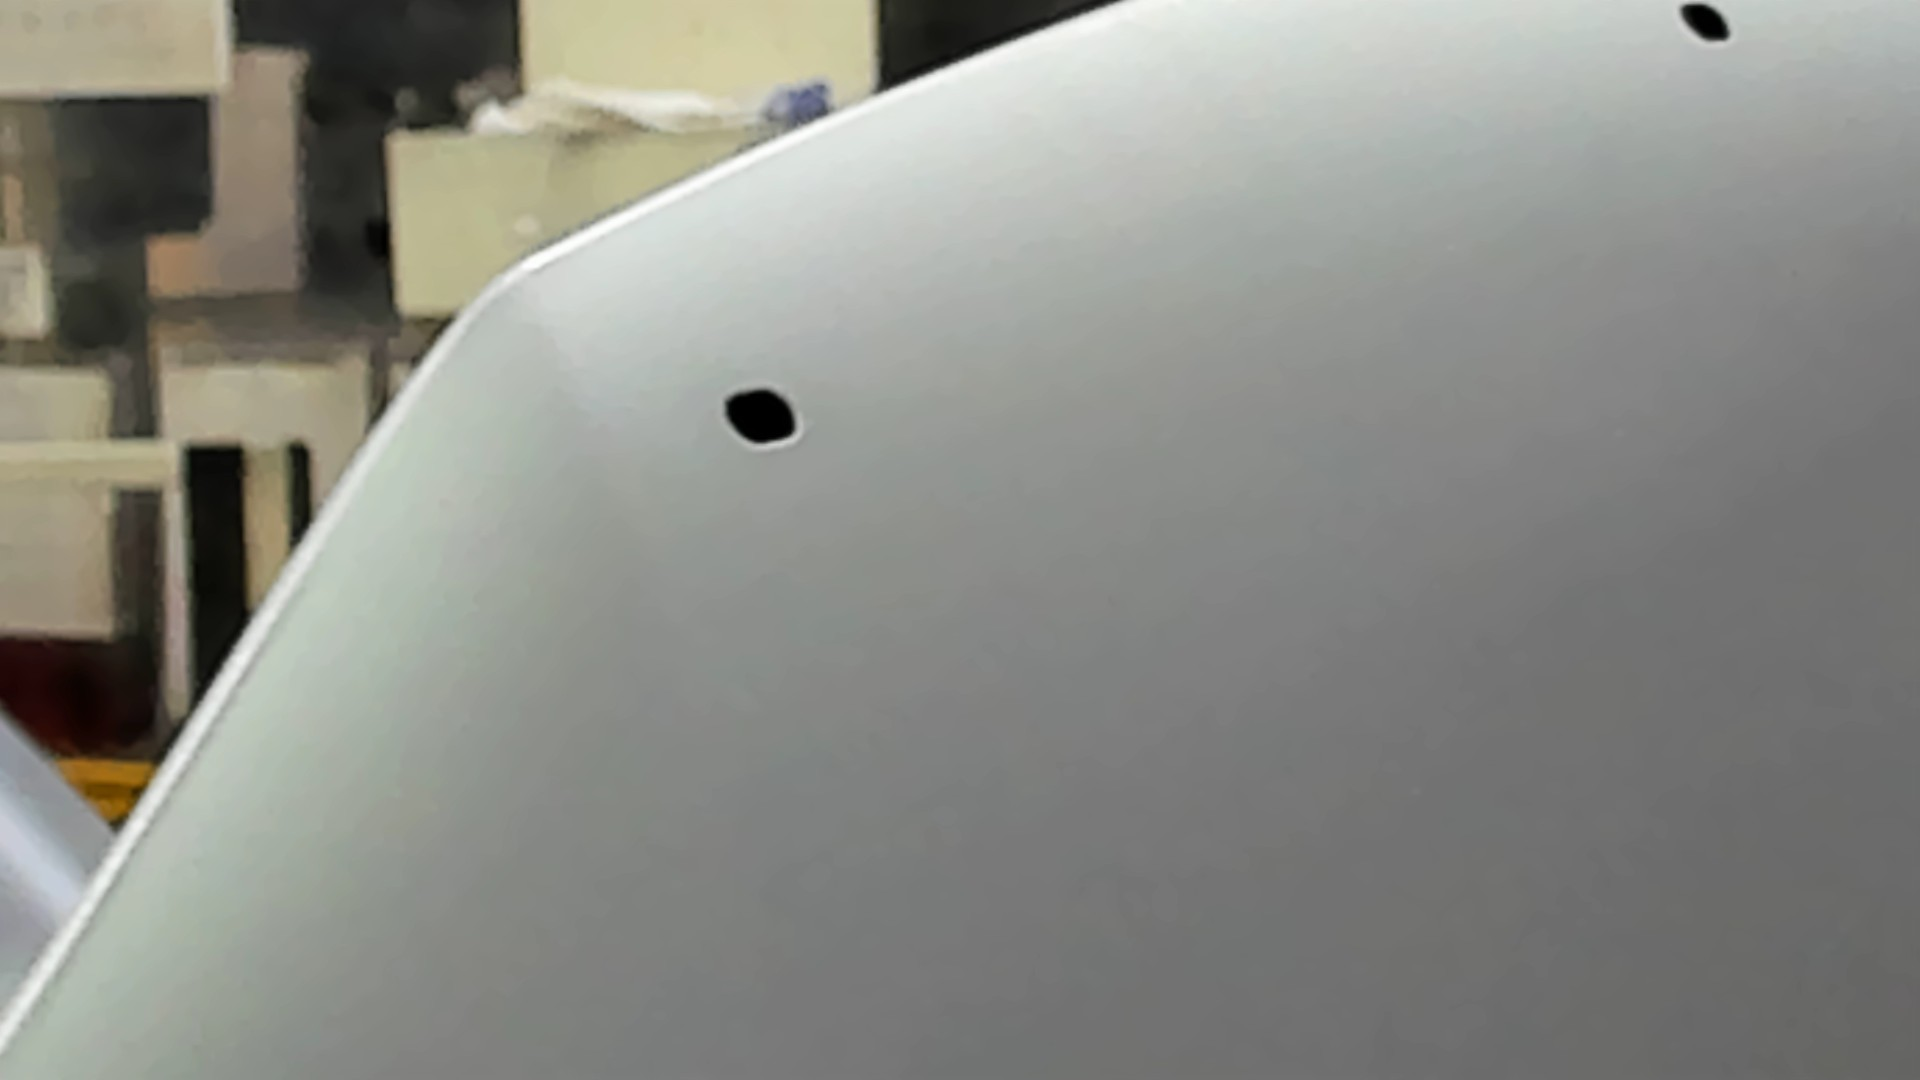amorfo: (717, 386, 806, 450), (1671, 1, 1739, 54)
